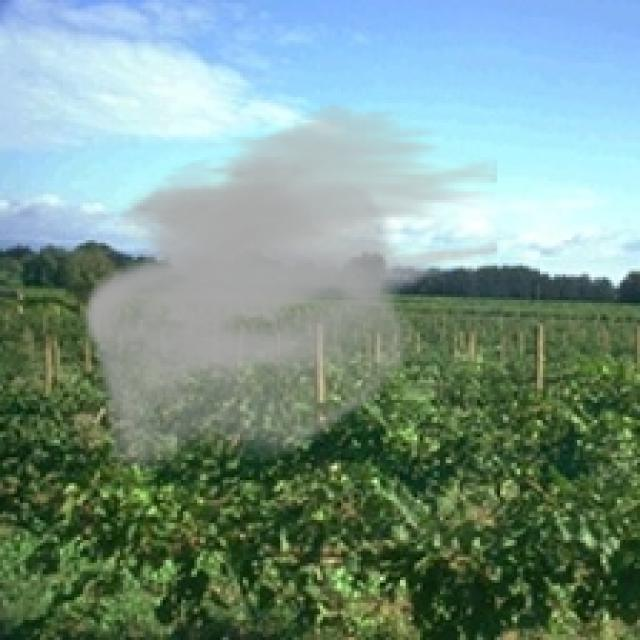Smoke: (82, 100, 498, 472)
